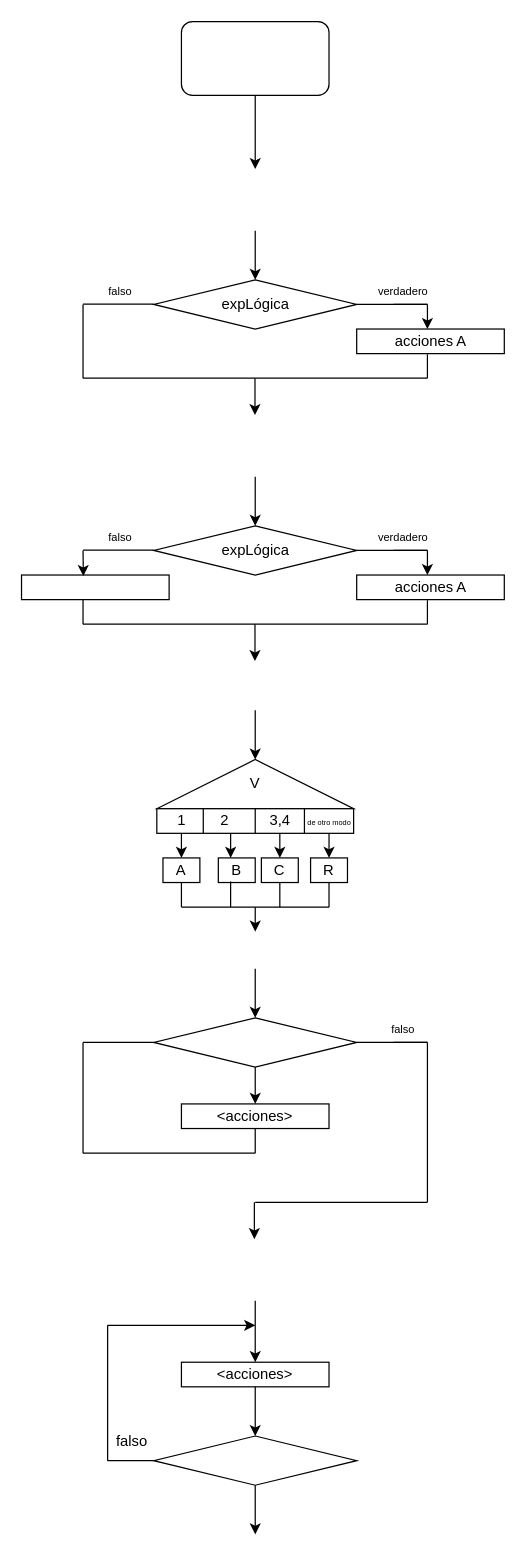
Some shapes in this 526 by 1566 pixel diagram are drawn without their labels. Each missing label, with the box of its shape:
<exp lógica>: (153, 1017, 357, 1067)
<expLógica>: (153, 1435, 357, 1485)
acciones B: (20, 574, 169, 600)
iniciar: (180, 20, 329, 95)
